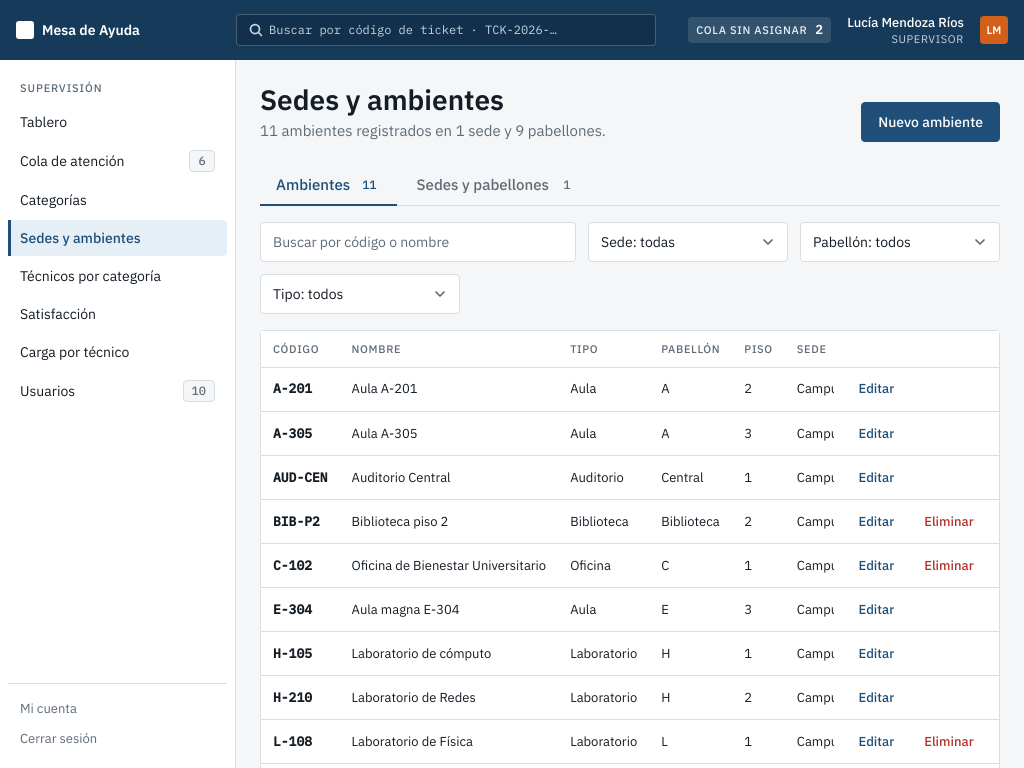
Test case: UbicacionesPage · ambientes › elimina tras confirmar solo los ambientes que no se usan
Expected: the element named "Secciones de sedes y ambientes" is shown, [260,166,1000,206]
Expected: the text "Cola sin asignar" is shown, [696,22,807,38]
Click the button named "Eliminar C-102".
click(949, 566)  # box [912,550,987,582]
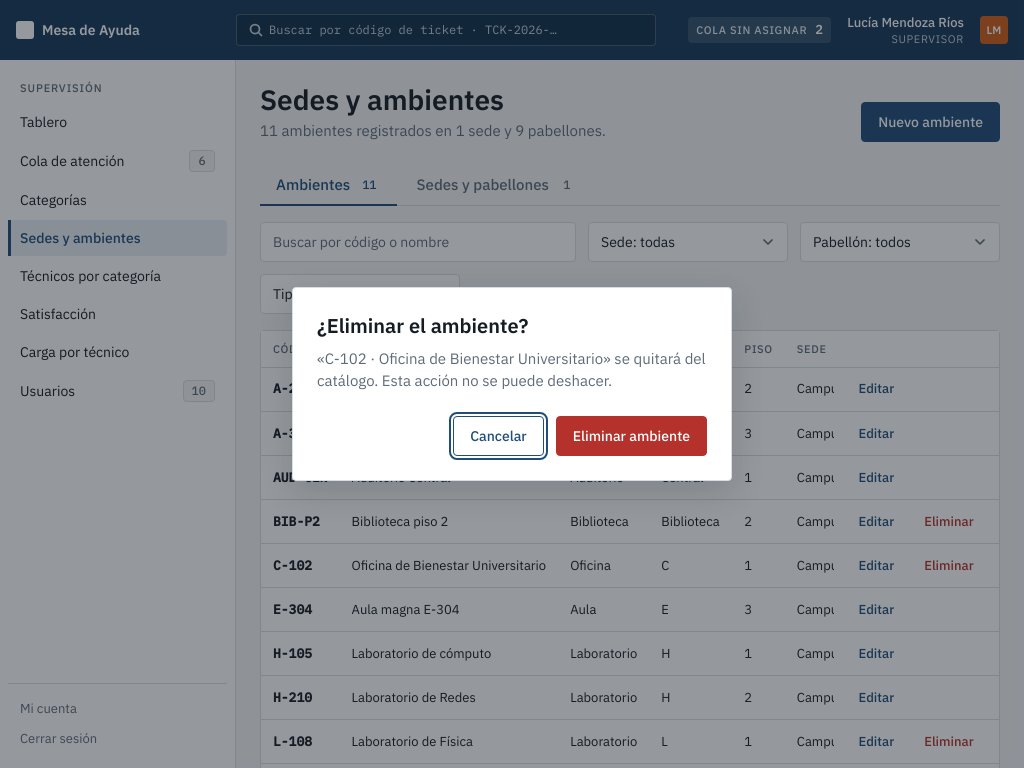
Now the dialog "¿Eliminar el ambiente?" shows "«C-102 · Oficina de Bienestar Universitario» se quitará del catálogo.", box [317,349,706,390]
Click the button "Eliminar ambiente".
click(631, 436)  # box [556,416,707,456]
(page scrolled)
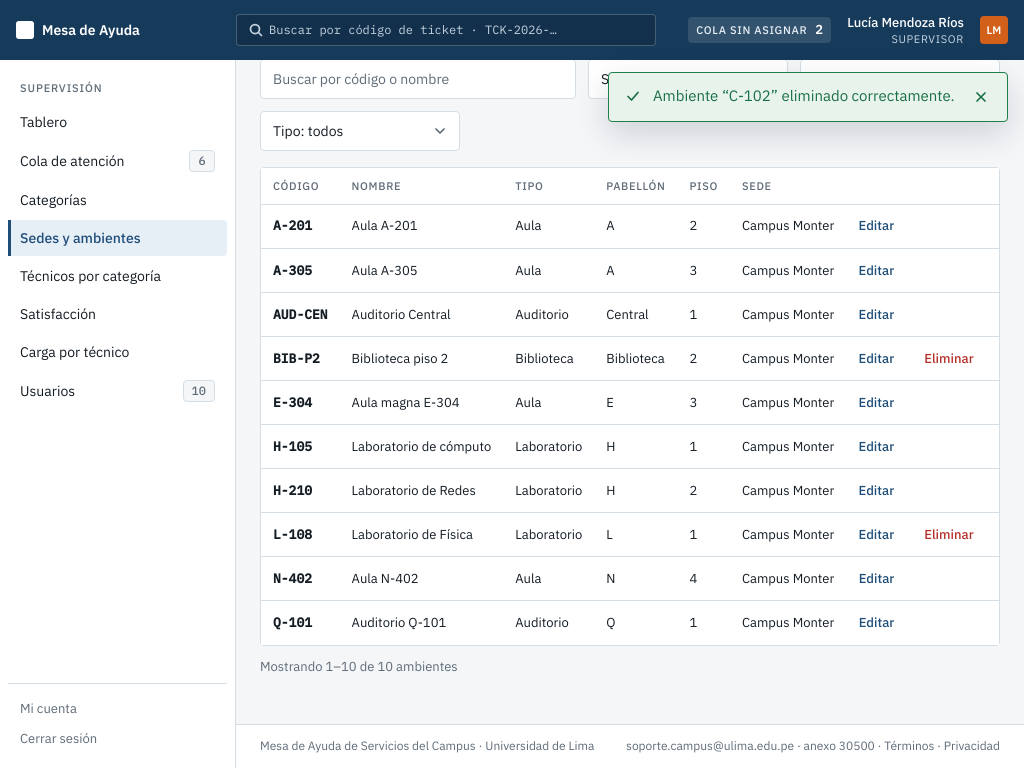
Now the text "Ambiente “C-102” eliminado correctamente." is shown, box [653,85,955,107]
